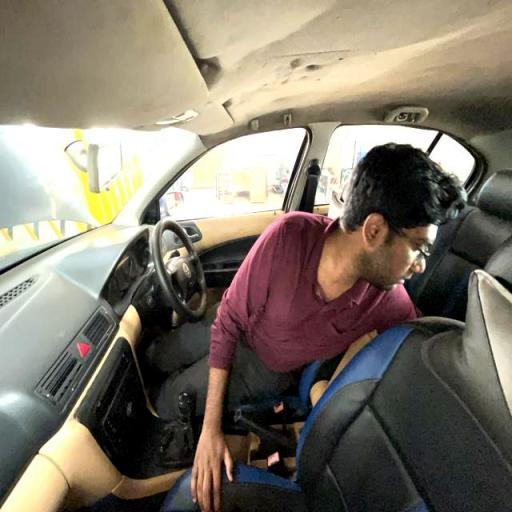Reaching_behind: (154, 143, 470, 440)
